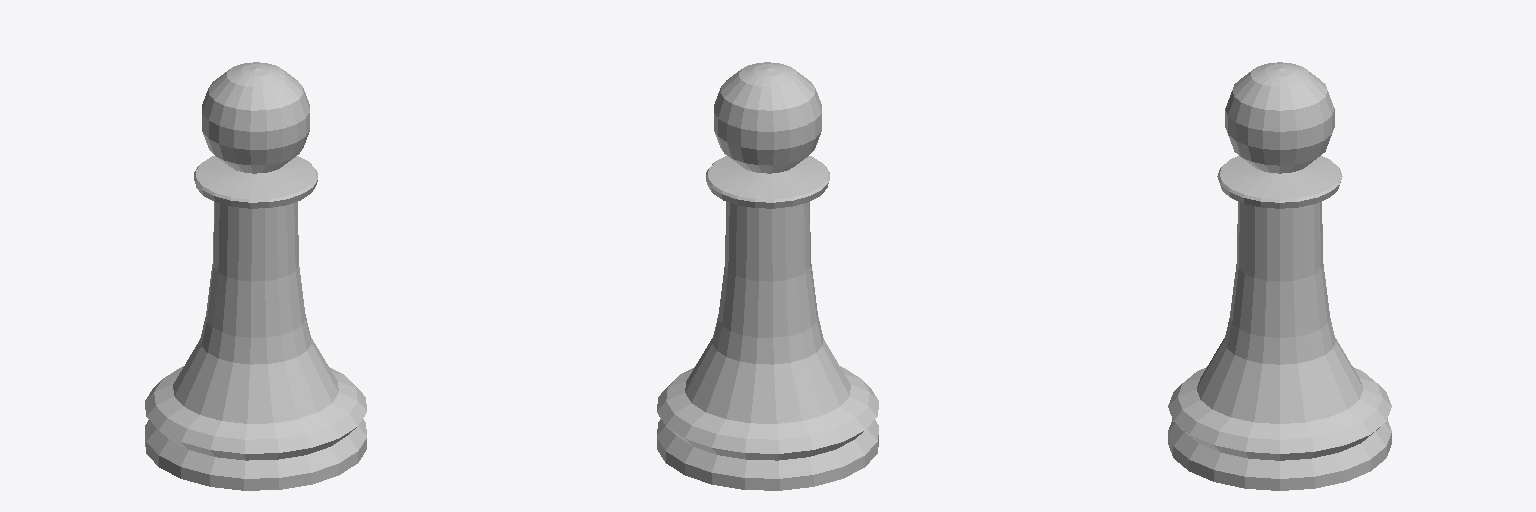
Rendered from chess_pawn.obj.
3 renders of one model, left to right at view 1: azimuth 30°, elevation 25°; view 2: azimuth 150°, elevation 25°; view 3: azimuth 270°, elevation 25°, orthographic.
Visible parts, largest first — view 1: Plane.003_Plane.006; view 2: Plane.003_Plane.006; view 3: Plane.003_Plane.006.
Part boxes in pixels (x1,y1,x2,y2): Plane.003_Plane.006: (145,62,366,490); Plane.003_Plane.006: (657,62,878,490); Plane.003_Plane.006: (1168,62,1391,490).
Bounding box in the file's own units: 1.13 × 2.09 × 1.13.